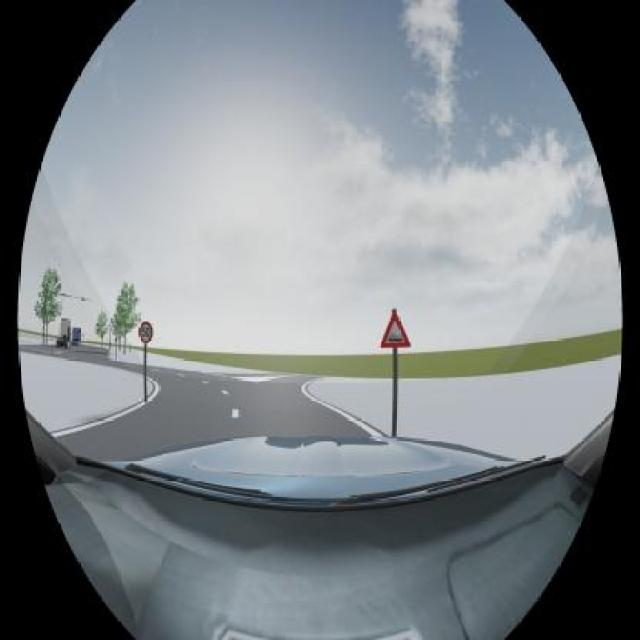forb_speed_over_50: (139, 321, 153, 342)
